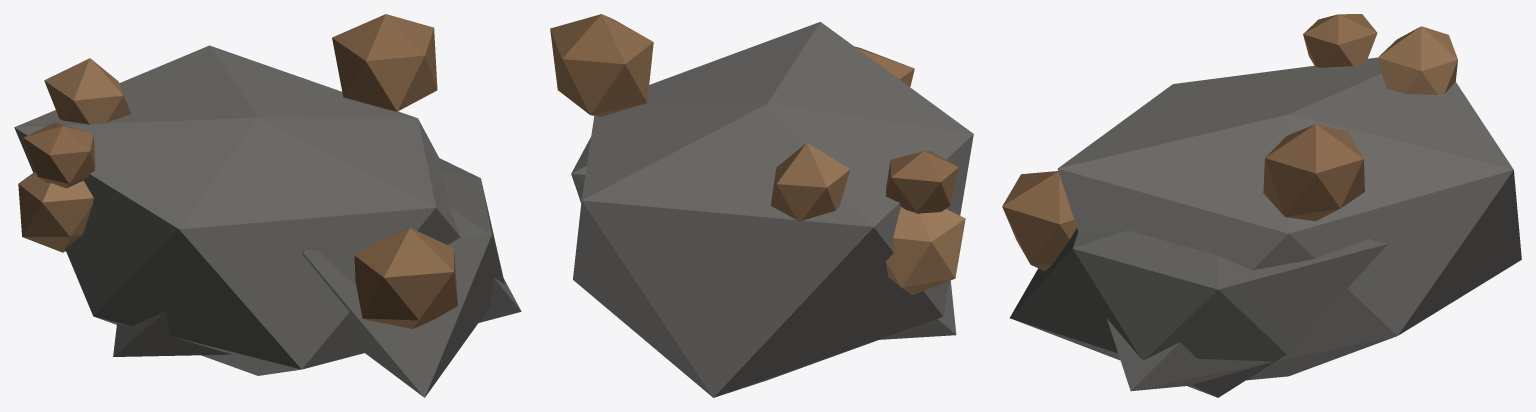
Rendered from copper_rock.glb.
3 renders of one model, left to right at view 1: azimuth 30°, elevation 25°; view 2: azimuth 150°, elevation 25°; view 3: azimuth 270°, elevation 25°, orthographic. The views are drawn at different scales.
Parts seen in each view (by area): view 1: copper_rock; view 2: copper_rock; view 3: copper_rock.
Part boxes in pixels (x1,y1,x2,y2): copper_rock: (14,14,521,397); copper_rock: (550,14,973,397); copper_rock: (1002,14,1521,397).
Size of the model in its own units: 1.28 by 0.9792 by 1.43.
Materials: 1 (1 with a texture image).
